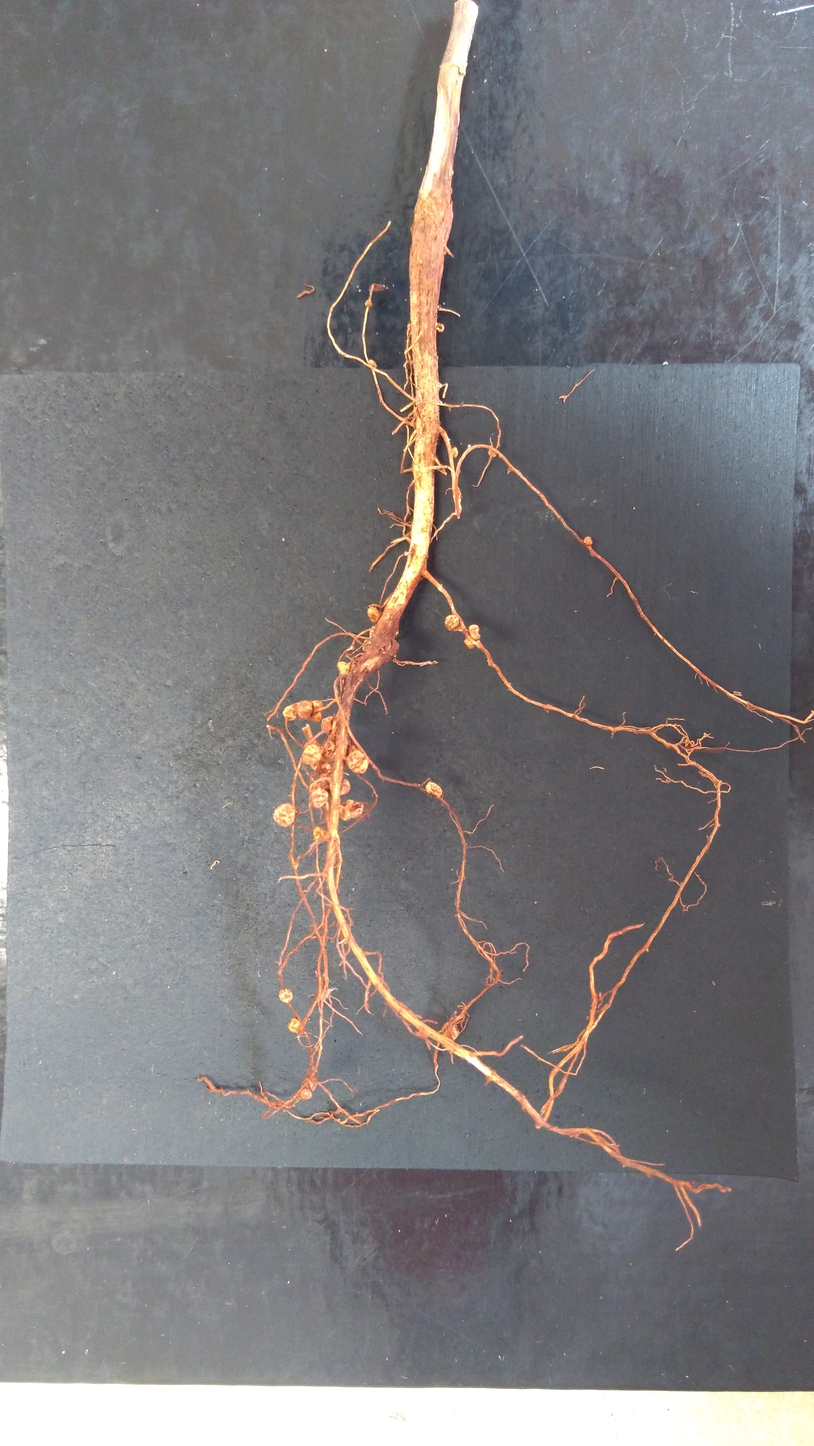nodule: (346, 750, 369, 774), (273, 803, 295, 827), (339, 799, 363, 820), (302, 744, 322, 764), (300, 1077, 317, 1099), (330, 778, 350, 796), (309, 775, 329, 793), (310, 789, 328, 808), (441, 1021, 459, 1040), (297, 701, 312, 720), (425, 782, 442, 798), (283, 703, 297, 721), (310, 701, 322, 722), (278, 988, 293, 1004), (287, 1018, 302, 1033), (367, 607, 381, 623), (445, 615, 459, 631), (313, 826, 329, 840), (321, 716, 333, 734), (468, 624, 480, 641), (324, 741, 335, 759), (338, 661, 351, 675), (320, 763, 331, 779), (362, 638, 372, 652), (464, 639, 476, 649), (346, 745, 357, 755), (584, 536, 593, 545), (369, 626, 375, 638), (311, 760, 318, 770), (369, 360, 377, 368), (489, 449, 497, 457), (453, 447, 458, 458), (365, 300, 372, 307), (331, 752, 336, 760), (438, 381, 442, 389), (349, 645, 355, 650), (407, 323, 411, 329), (467, 444, 471, 448)
